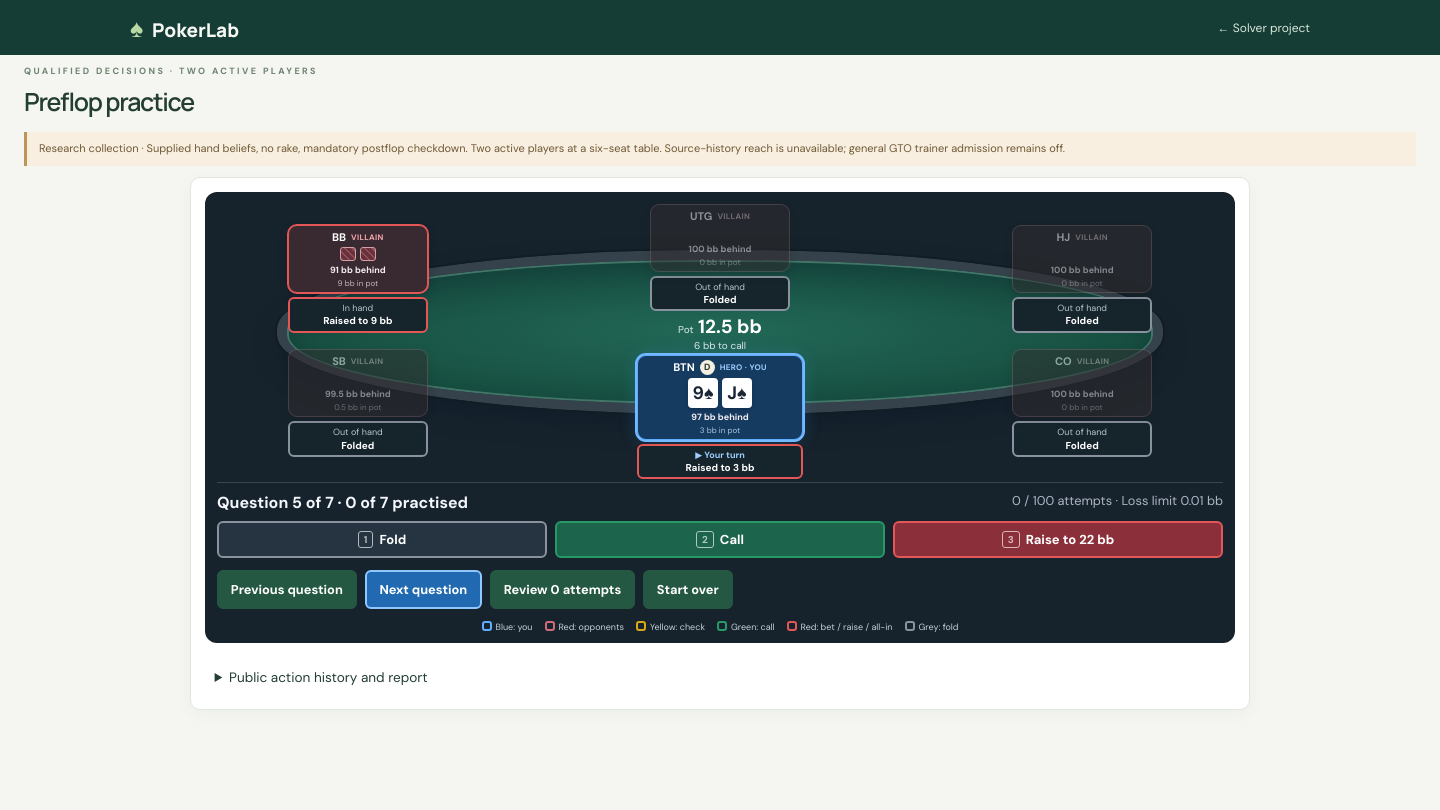
Test case: deep-links to a button hand with the opponent hidden and only current-question feedback
Expected: the element named "Your cards" reads "9♠ J♠", x1=688 y1=378 x2=752 y2=408
Click the button "2 Call": {"x": 720, "y": 539} x1=555 y1=521 x2=885 y2=558
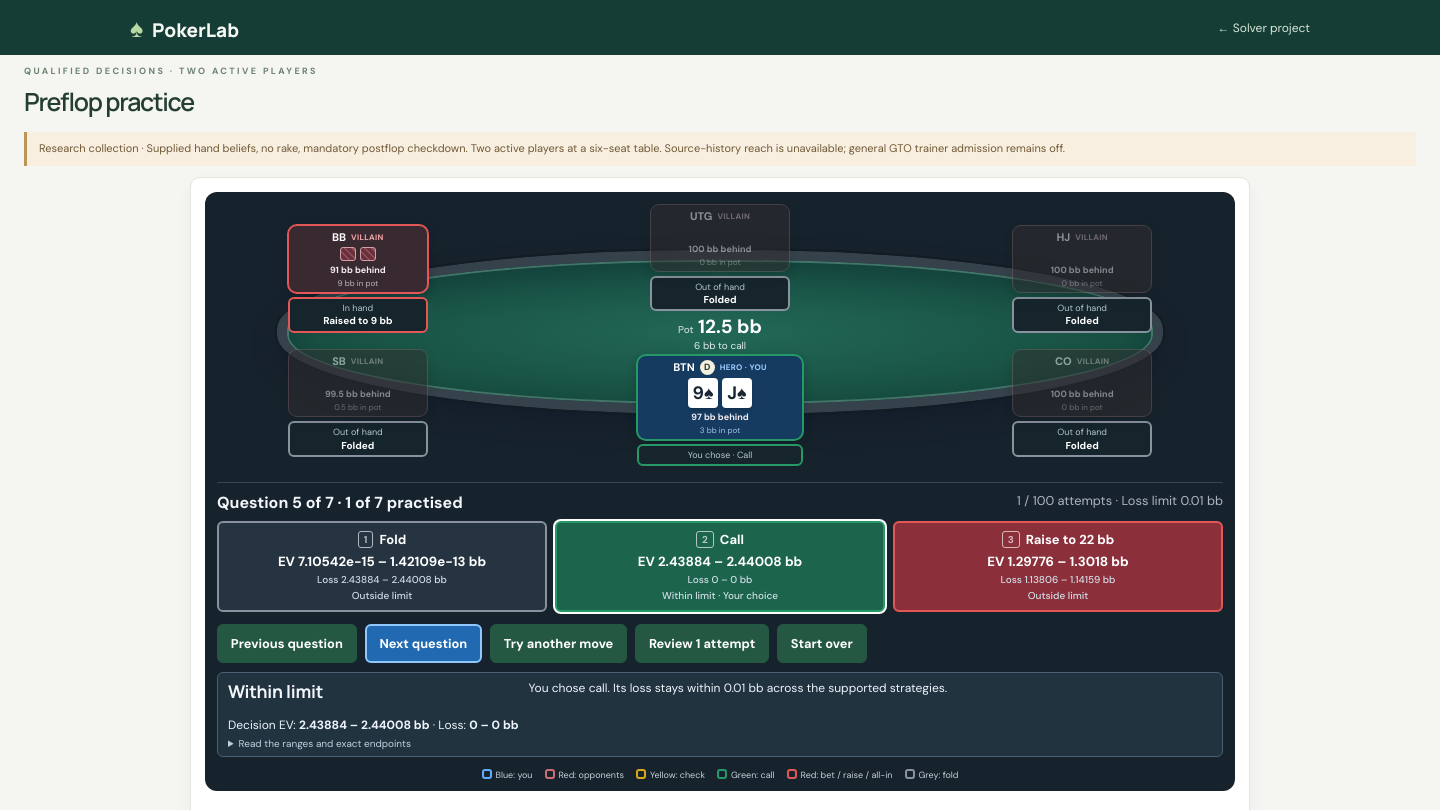
Expected: the heading "Within limit" is shown, x1=228 y1=679 x2=323 y2=703
Click the button "Next question": {"x": 423, "y": 644} x1=365 y1=624 x2=482 y2=663
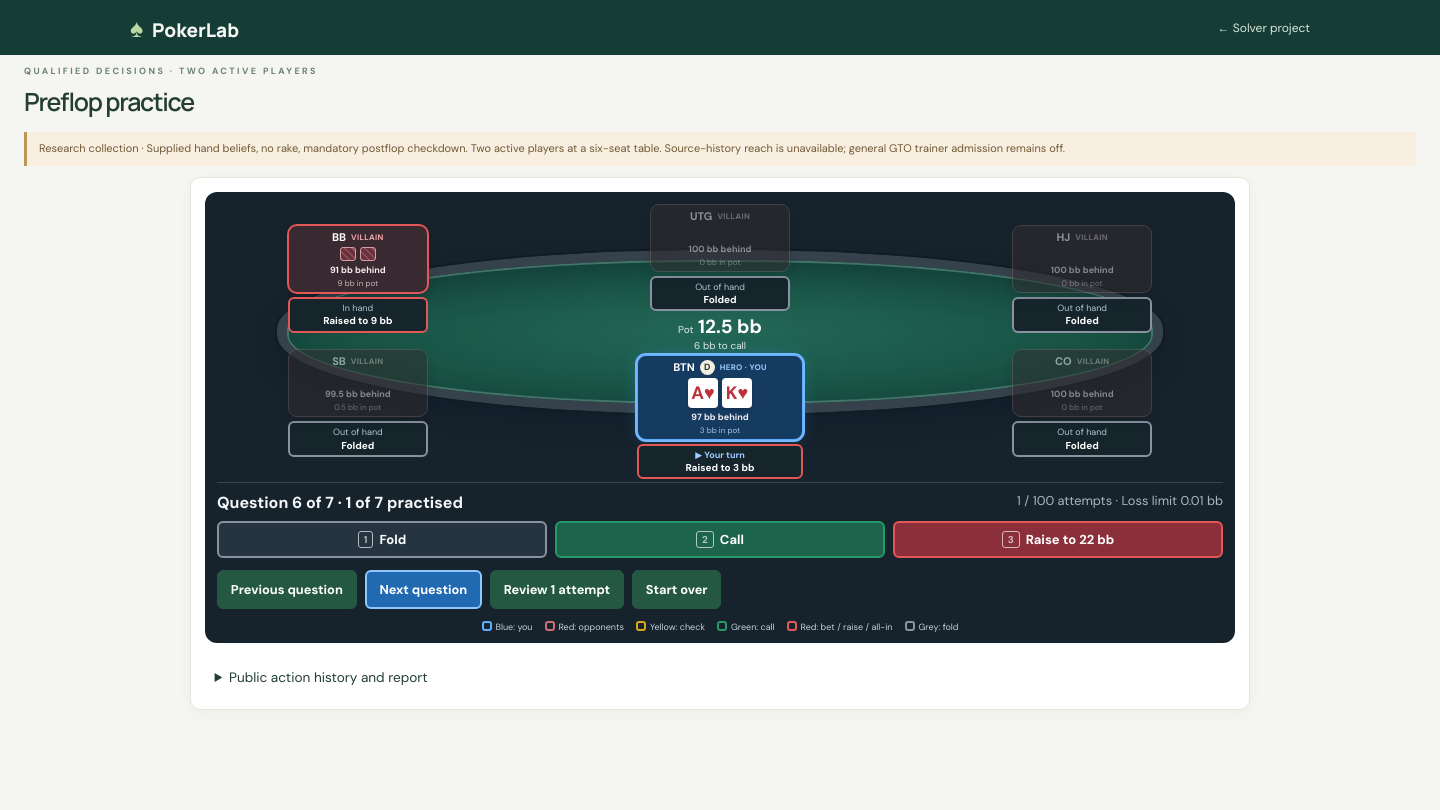
Expected: the button "2 Call" does not show "EV", x1=555 y1=521 x2=885 y2=558
Expected: the element named "Your cards" reads "A♥ K♥", x1=688 y1=378 x2=752 y2=408
Click the button "3 Raise to 22 bb": {"x": 1058, "y": 539} x1=893 y1=521 x2=1223 y2=558
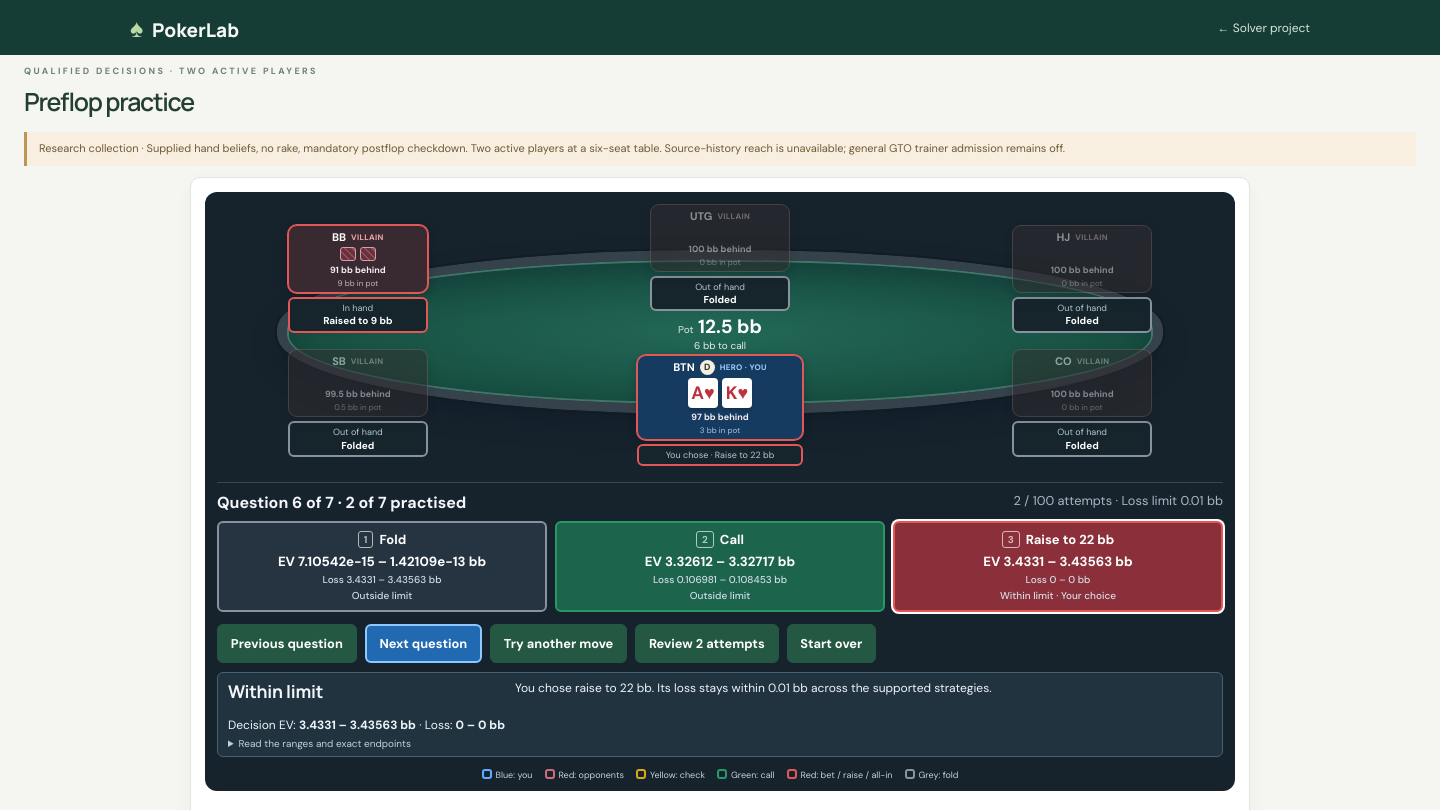
Expected: the heading "Within limit" is shown, x1=228 y1=679 x2=323 y2=703
Expected: the button "Call" shows "Outside limit", x1=555 y1=521 x2=885 y2=612
